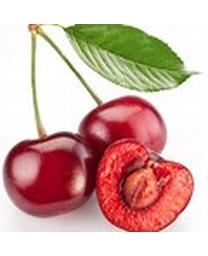cherry: (95, 136, 194, 231), (3, 132, 98, 217), (79, 96, 168, 171)
